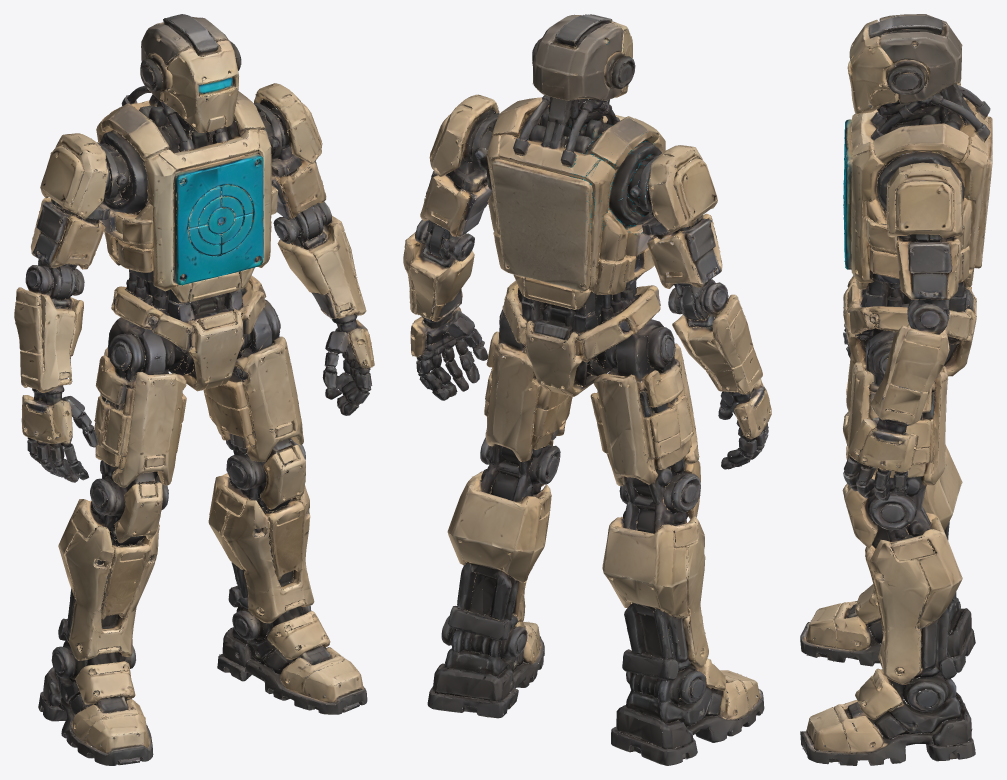
Rendered from training_dummy.glb.
3 views of the same model, side by side, from view 1: azimuth 30°, elevation 25°; view 2: azimuth 150°, elevation 25°; view 3: azimuth 270°, elevation 25° (orthographic). The views are drawn at different scales.
Visible parts, largest first — view 1: Training_Dummy_Desert_Turquoise_Game_Mesh; view 2: Training_Dummy_Desert_Turquoise_Game_Mesh; view 3: Training_Dummy_Desert_Turquoise_Game_Mesh.
Part boxes in pixels (box(x1,y1,x2,y2)): Training_Dummy_Desert_Turquoise_Game_Mesh: box(14, 14, 374, 765); Training_Dummy_Desert_Turquoise_Game_Mesh: box(403, 14, 771, 765); Training_Dummy_Desert_Turquoise_Game_Mesh: box(800, 14, 992, 765).
Bounding box in the file's own units: 0.9682 × 1.85 × 0.4747.
Materials: 1 (1 with a texture image).
